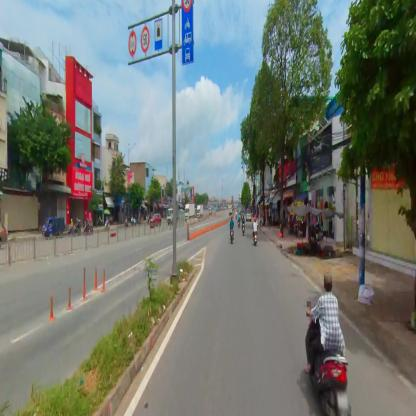Cam con lai: (128, 30, 137, 56), (128, 30, 136, 55)
Gioi han toc do: (140, 25, 150, 52), (141, 26, 149, 51), (181, 0, 192, 11), (182, 0, 192, 12)
